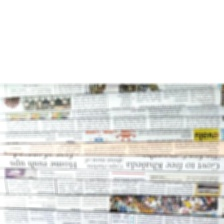news_paper: (0, 83, 224, 224)
